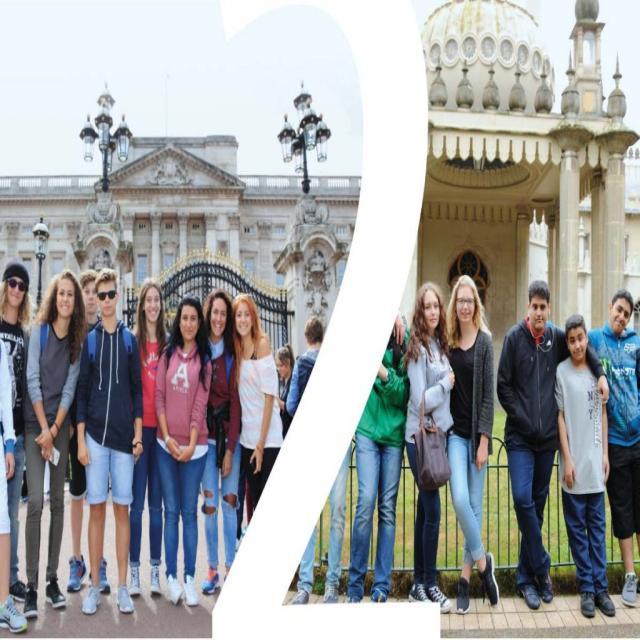body: (492, 277, 610, 617), (545, 287, 640, 610), (72, 265, 144, 615), (23, 267, 88, 620), (150, 290, 216, 611), (552, 312, 617, 620), (400, 275, 458, 619), (445, 272, 501, 617), (344, 314, 410, 604), (64, 267, 114, 597), (197, 288, 243, 596), (229, 291, 287, 514), (128, 280, 164, 600), (0, 256, 31, 604), (292, 446, 349, 604), (0, 331, 26, 636), (285, 314, 326, 418), (274, 342, 297, 442)
